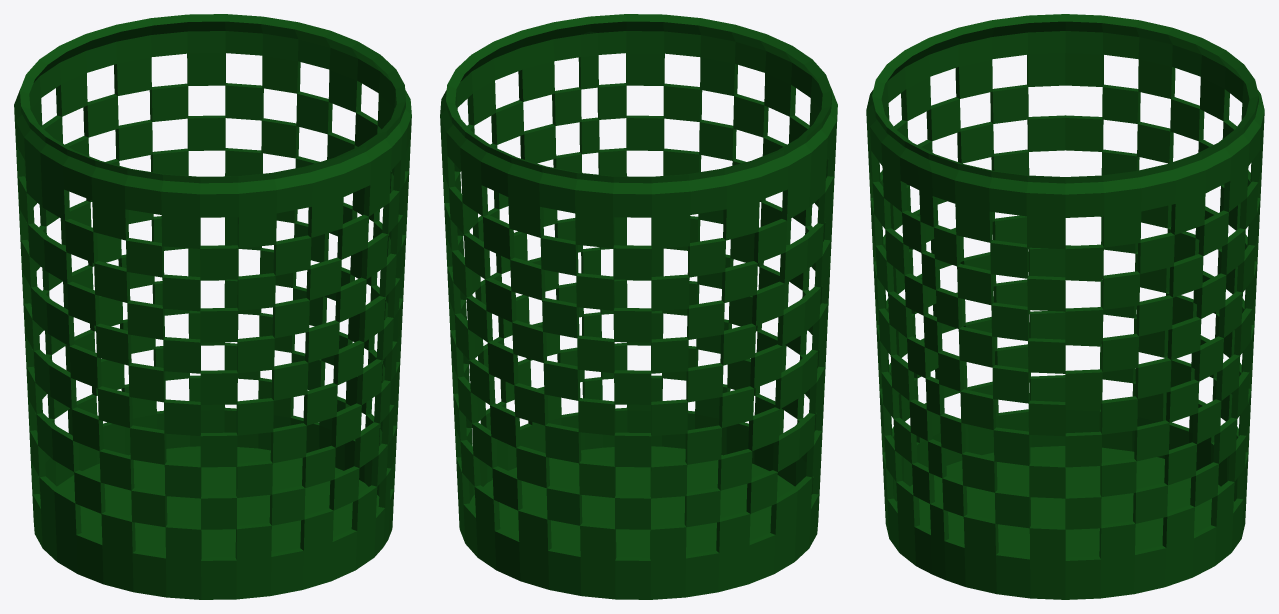
Rendered from Corbeille.fbx.
3 views of the same model, side by side, from view 1: azimuth 30°, elevation 25°; view 2: azimuth 150°, elevation 25°; view 3: azimuth 270°, elevation 25° (orthographic).
Parts seen in each view (by area): view 1: Corbeille; view 2: Corbeille; view 3: Corbeille.
Part boxes in pixels (bbox=[...]): Corbeille: bbox=[14, 14, 411, 599]; Corbeille: bbox=[440, 14, 837, 599]; Corbeille: bbox=[866, 14, 1264, 599].
Size of the model in its own units: 29.94 by 35.5 by 29.94.
